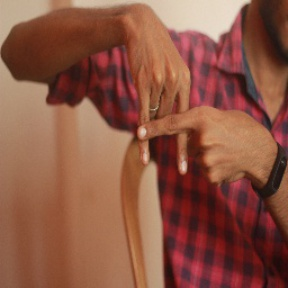H: (117, 54, 224, 186)
